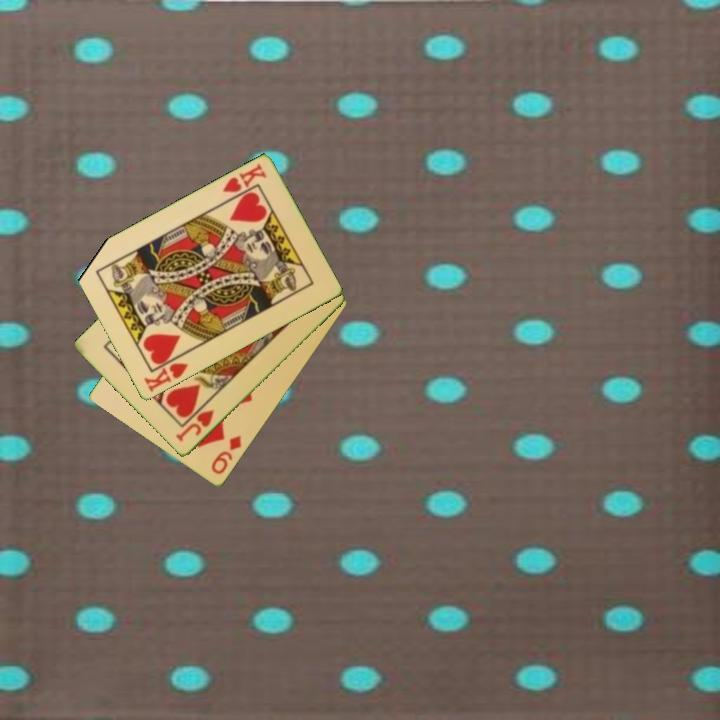9d: (207, 432, 244, 478)
Jh: (172, 406, 217, 445)
Kh: (140, 351, 191, 396), (219, 160, 270, 196)
